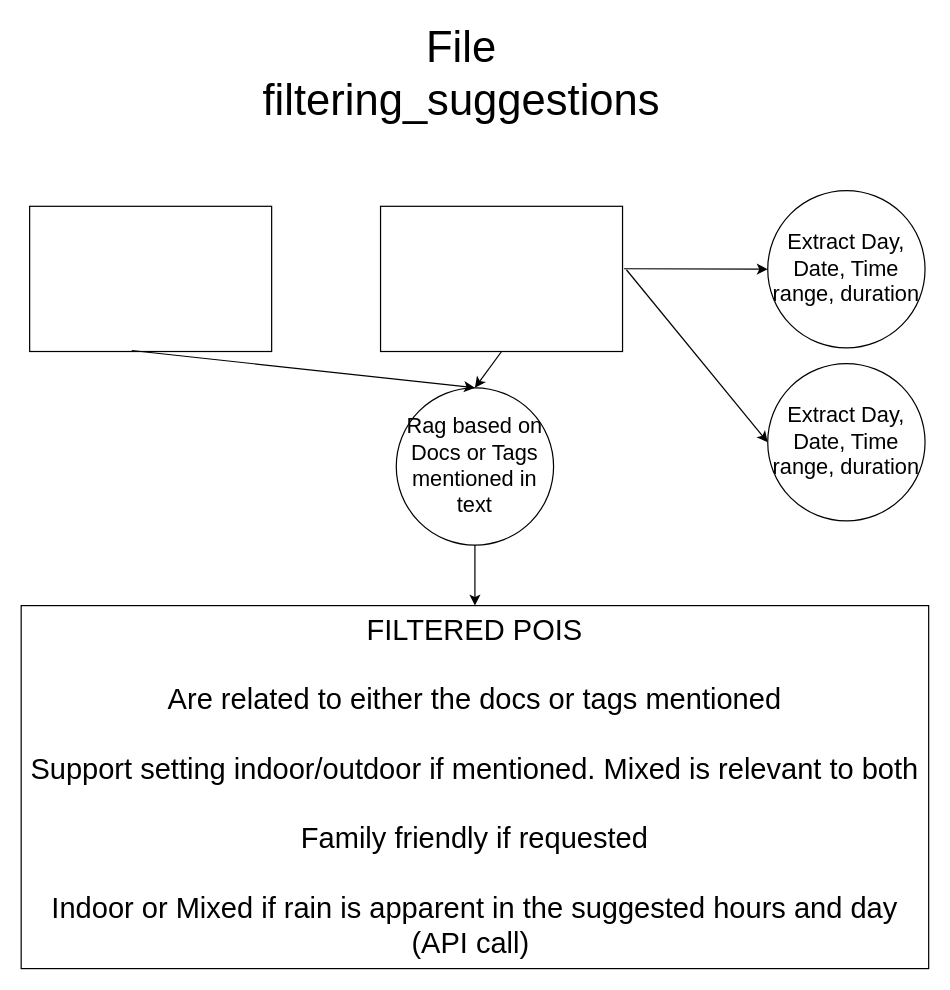
This 950x990 diagram has some shape labels left out. The centre of each missing label's shape, as x and y in pixels:
"POIs All POIs or Filtered from previous chat call" goes at (150,278).
"User input in lower case" goes at (501,278).
